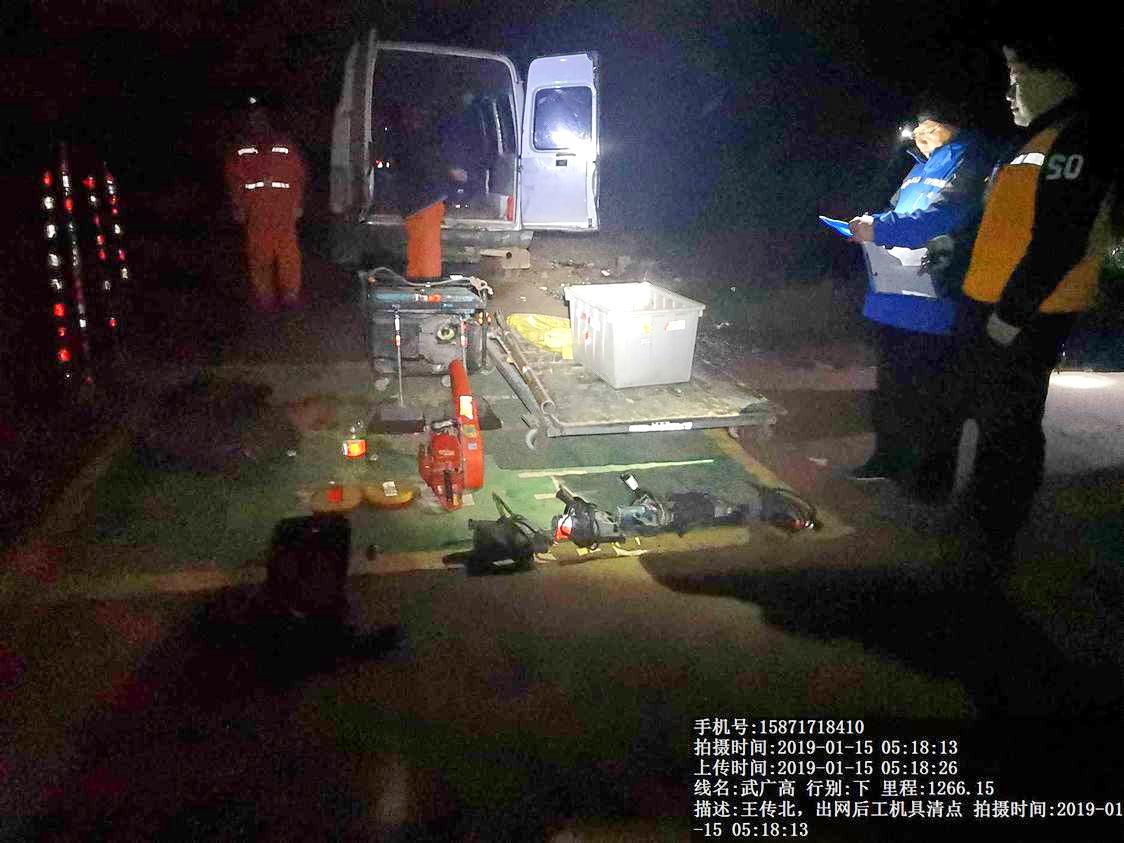DJ: (364, 271, 491, 373)
DZ: (543, 479, 624, 549)
GFJ: (427, 352, 494, 503)
JC: (300, 475, 363, 514), (363, 474, 421, 512)
T: (562, 275, 706, 391)
